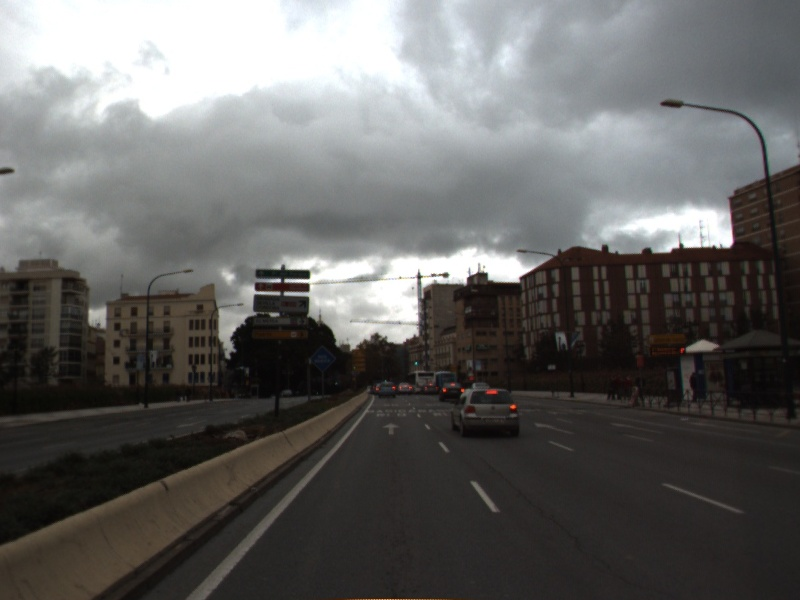STRAIGHT: (607, 419, 667, 436), (532, 419, 579, 437), (380, 420, 403, 437)
